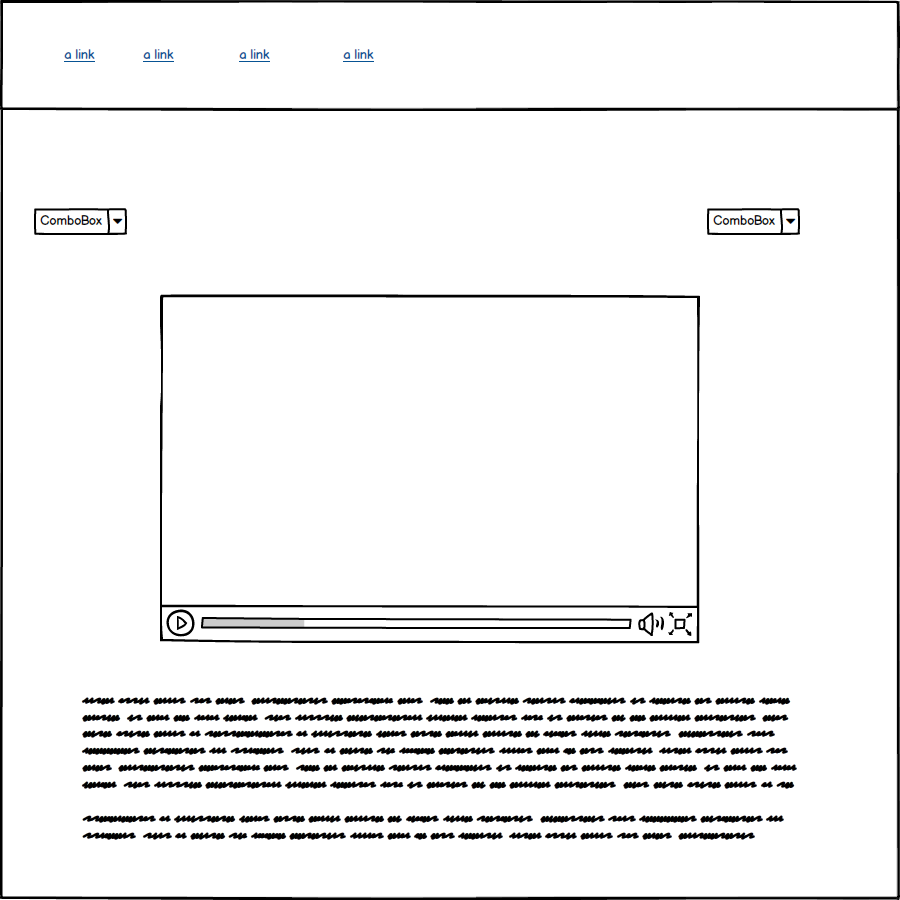navlink: (134, 38, 183, 75), (334, 38, 379, 74), (53, 36, 101, 67), (233, 41, 279, 70)
p: (72, 685, 807, 862)
select_box: (22, 199, 144, 245), (696, 199, 808, 243)
video: (148, 288, 705, 652)
